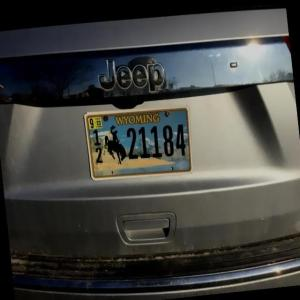Plate: (83, 105, 194, 181)
